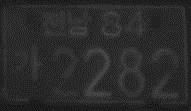2: (150, 46, 181, 100), (50, 45, 79, 99), (83, 46, 112, 99)
4: (124, 10, 146, 38)
8: (118, 46, 146, 98), (101, 11, 122, 36)
가: (12, 44, 44, 84)
전남_O: (40, 9, 91, 36)
